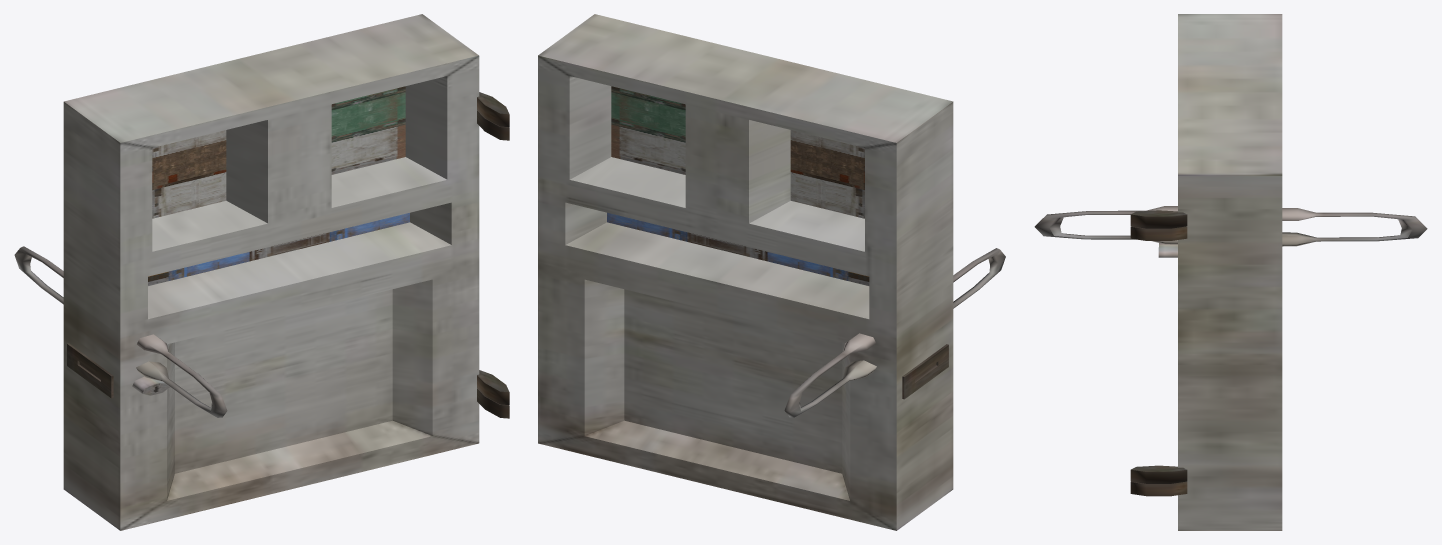
The model's file is SM_GlazedLeaf.glb.
3 renders of one model, left to right at view 1: azimuth 30°, elevation 25°; view 2: azimuth 150°, elevation 25°; view 3: azimuth 270°, elevation 25°, orthographic. The views are drawn at different scales.
Visible parts, largest first — view 1: SM_GlazedLeaf; view 2: SM_GlazedLeaf; view 3: SM_GlazedLeaf.
Boxes of the visible parts, x1=… form: SM_GlazedLeaf: x1=14, y1=14, x2=509, y2=530; SM_GlazedLeaf: x1=538, y1=14, x2=1005, y2=530; SM_GlazedLeaf: x1=1034, y1=14, x2=1427, y2=530.
Bounding box in the file's own units: 1 × 1 × 1.
1 material, 1 textured.
